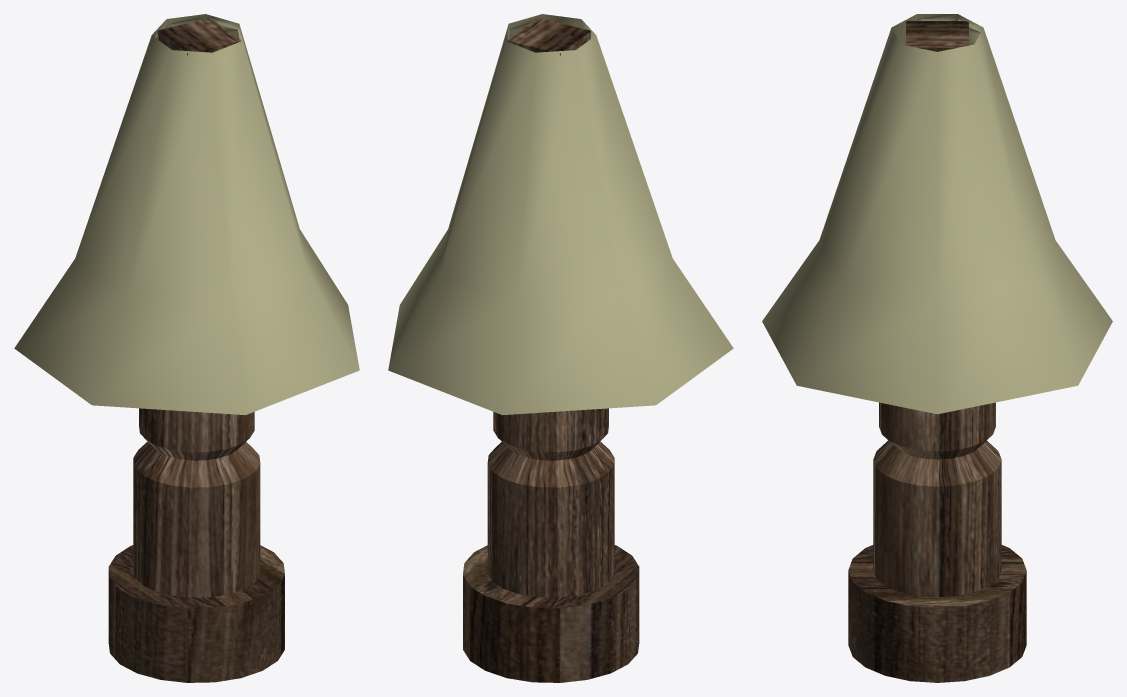
The model's file is Lamp.fbx.
The picture shows the model from 3 angles, left to right: view 1: azimuth 30°, elevation 25°; view 2: azimuth 150°, elevation 25°; view 3: azimuth 270°, elevation 25°; orthographic projection.
Parts seen in each view (by area): view 1: LightShade, LightBase, LightCap; view 2: LightShade, LightBase, LightCap; view 3: LightShade, LightBase, LightCap.
Part boxes in pixels (x1,y1,x2,y2): LightShade: (14, 14, 359, 415); LightBase: (108, 408, 284, 682); LightCap: (157, 18, 241, 55); LightShade: (388, 14, 733, 415); LightBase: (463, 408, 639, 682); LightCap: (506, 17, 590, 55); LightShade: (762, 14, 1112, 414); LightBase: (848, 402, 1026, 682); LightCap: (906, 21, 968, 51).
Bounding box in the file's own units: 3.84 × 7.6 × 3.94.
Materials: 2 (1 with a texture image).
